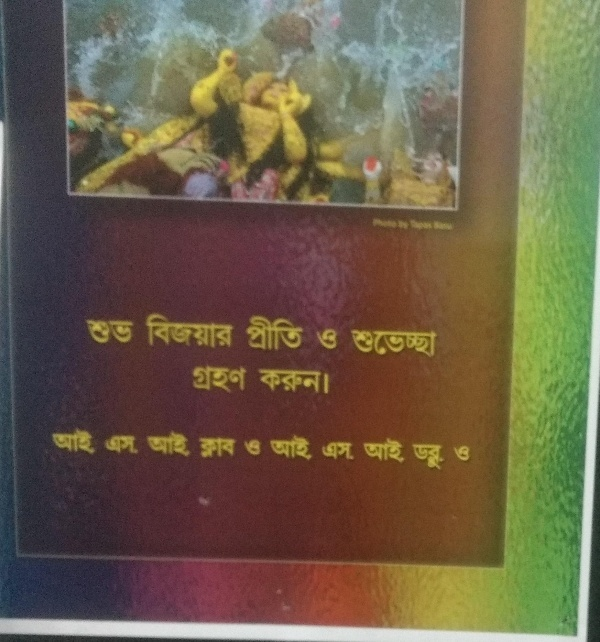text: (145, 311, 160, 350), (161, 311, 176, 350), (177, 311, 192, 350), (193, 311, 208, 350), (209, 311, 224, 350), (257, 316, 272, 354), (273, 316, 288, 354), (289, 316, 304, 354), (417, 435, 432, 471), (433, 435, 448, 471), (273, 429, 288, 462), (289, 429, 304, 462), (305, 429, 320, 462), (49, 427, 64, 459), (65, 427, 80, 459), (81, 427, 96, 459), (225, 311, 237, 350), (465, 438, 477, 477), (353, 328, 368, 359), (369, 328, 384, 359), (385, 328, 400, 359), (401, 328, 416, 359), (417, 328, 432, 359), (161, 429, 176, 459), (177, 429, 192, 459), (321, 435, 336, 465), (337, 435, 352, 465), (209, 435, 224, 464), (193, 365, 208, 394), (209, 365, 224, 394), (225, 365, 240, 394), (97, 319, 112, 347), (113, 319, 128, 347), (273, 368, 288, 396), (289, 368, 304, 396), (305, 368, 320, 396), (321, 368, 336, 396), (245, 316, 256, 354), (113, 432, 128, 458), (129, 432, 144, 458), (369, 438, 384, 464), (385, 438, 400, 464), (455, 438, 464, 477), (242, 435, 256, 460), (225, 435, 237, 464), (260, 368, 272, 396), (149, 429, 160, 459), (197, 435, 208, 464), (321, 329, 336, 350), (353, 435, 362, 465), (97, 427, 105, 459), (87, 319, 96, 347), (359, 438, 368, 464), (401, 438, 410, 464), (257, 435, 266, 460), (410, 435, 416, 471), (193, 429, 200, 459), (369, 216, 384, 230), (385, 216, 400, 230), (104, 432, 112, 458), (241, 365, 248, 394), (129, 319, 136, 347), (417, 219, 433, 231), (433, 328, 438, 359), (449, 435, 453, 471), (434, 221, 448, 231), (316, 329, 320, 350), (409, 219, 416, 231), (401, 220, 409, 230), (449, 221, 454, 231), (143, 311, 144, 350), (191, 365, 192, 394), (145, 432, 146, 458), (337, 329, 338, 350), (398, 220, 400, 230)
